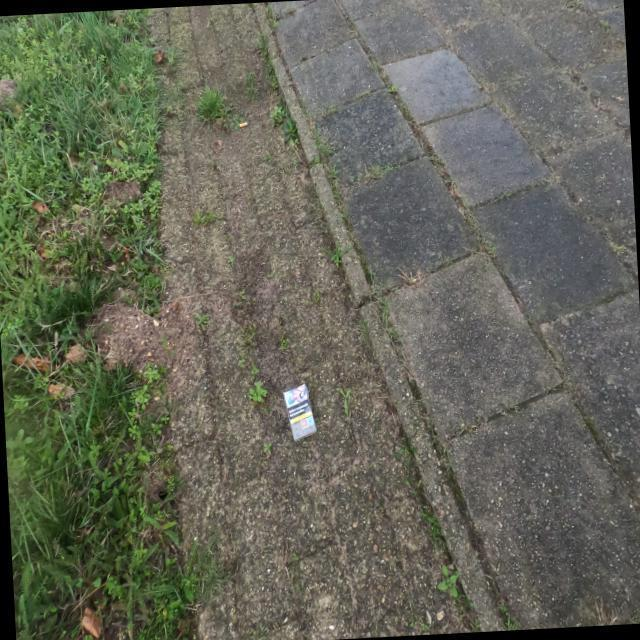Paper: (282, 382, 318, 444)
